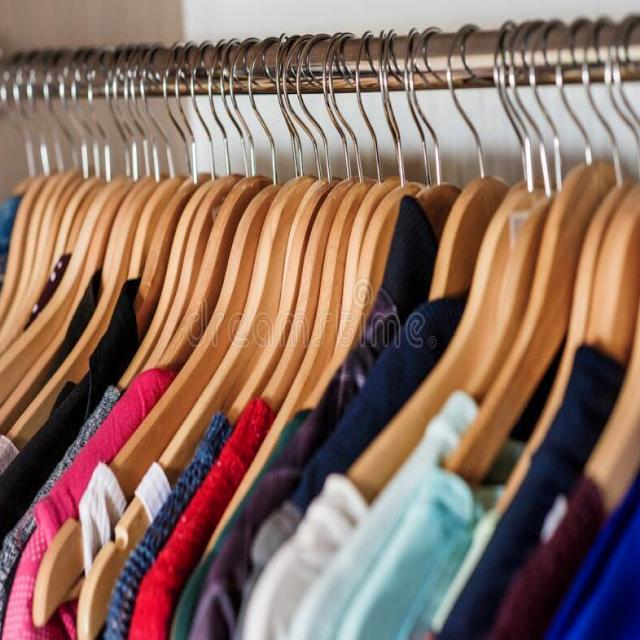clothes: (33, 392, 626, 627)
